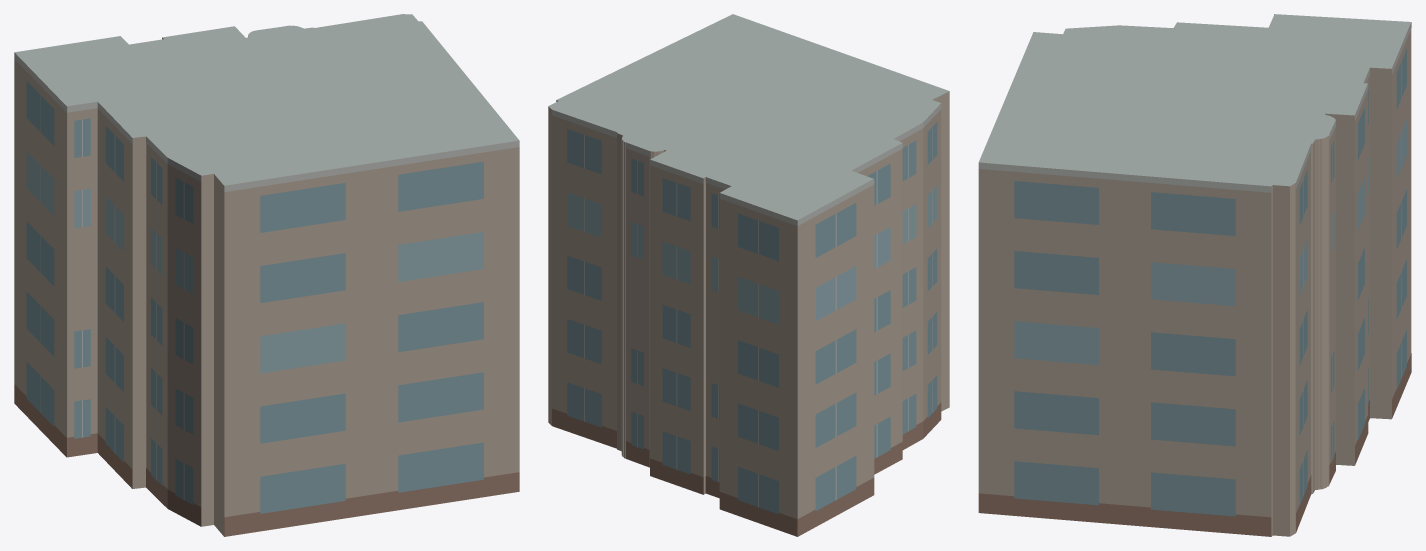
The model's file is survey-upis-32654704.glb.
3 views of the same model, side by side, from view 1: azimuth 30°, elevation 25°; view 2: azimuth 150°, elevation 25°; view 3: azimuth 270°, elevation 25° (orthographic). The views are drawn at different scales.
Parts seen in each view (by area): view 1: survey-upis-32654704.tmp; view 2: survey-upis-32654704.tmp; view 3: survey-upis-32654704.tmp.
Part boxes in pixels (bbox=[...]): survey-upis-32654704.tmp: bbox=[14, 14, 519, 536]; survey-upis-32654704.tmp: bbox=[548, 14, 949, 536]; survey-upis-32654704.tmp: bbox=[978, 14, 1411, 536].
Size of the model in its own units: 14.15 by 13.4 by 15.01.
